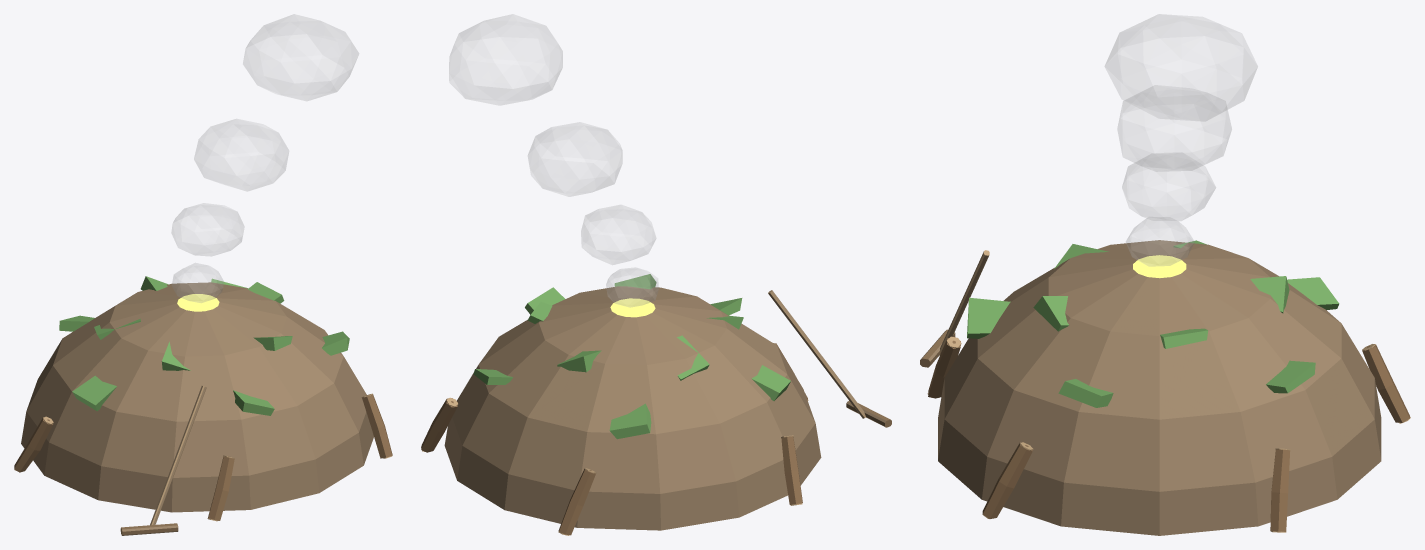
The model's file is charcoal_clamp.glb.
3 views of the same model, side by side, from view 1: azimuth 30°, elevation 25°; view 2: azimuth 150°, elevation 25°; view 3: azimuth 270°, elevation 25° (orthographic). The views are drawn at different scales.
Parts seen in each view (by area): view 1: charcoal_clamp; view 2: charcoal_clamp; view 3: charcoal_clamp.
Boxes of the visible parts, bbox=[...] form: charcoal_clamp: bbox=[14, 14, 392, 535]; charcoal_clamp: bbox=[421, 14, 891, 535]; charcoal_clamp: bbox=[920, 14, 1410, 535].
Size of the model in its own units: 2.7 by 2.96 by 2.7.
